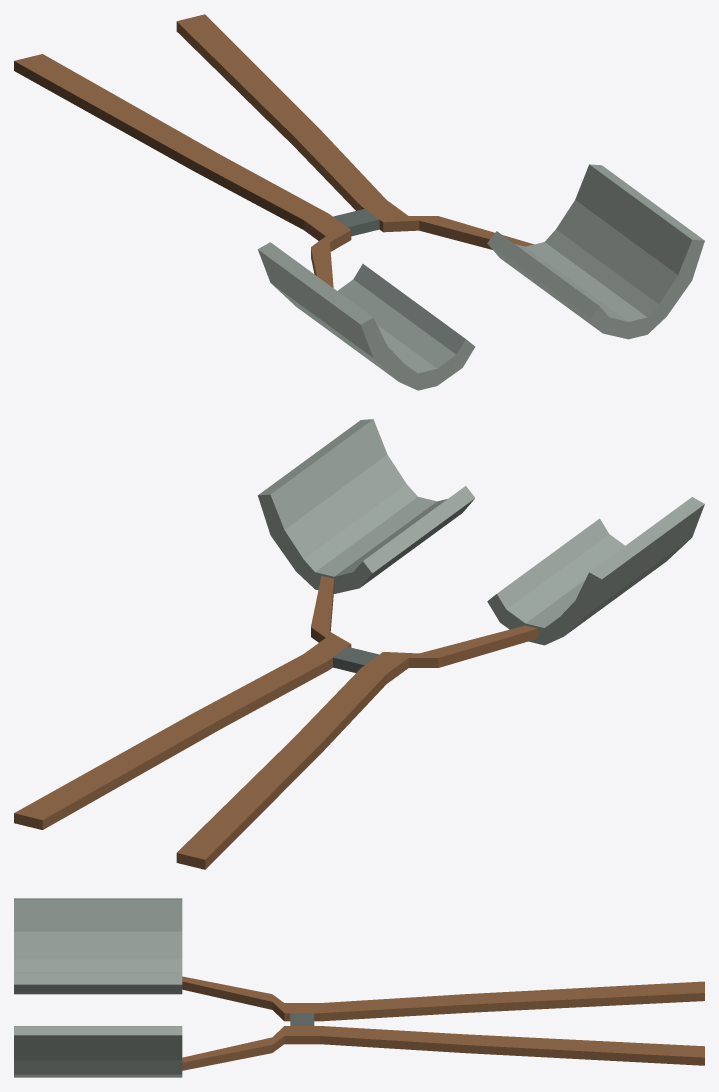
3 renders of one model, top to bottom at view 1: azimuth 30°, elevation 25°; view 2: azimuth 150°, elevation 25°; view 3: azimuth 270°, elevation 25°, orthographic. The views are drawn at different scales.
Visible parts, largest first — view 1: WholeRightConcaveWideShovelJaw, WholeLeftConcaveWideShovelJaw, WholeLeftBentNarrowHandle, WholeRightBentNarrowHandle, WholeFixedRectangularPivotBridge; view 2: WholeRightConcaveWideShovelJaw, WholeLeftConcaveWideShovelJaw, WholeLeftBentNarrowHandle, WholeRightBentNarrowHandle, WholeFixedRectangularPivotBridge; view 3: WholeLeftConcaveWideShovelJaw, WholeRightBentNarrowHandle, WholeLeftBentNarrowHandle, WholeRightConcaveWideShovelJaw, WholeFixedRectangularPivotBridge.
Part boxes in pixels (x1,y1,x2,y2): WholeRightConcaveWideShovelJaw: (487,164,704,339); WholeLeftConcaveWideShovelJaw: (258,242,475,390); WholeLeftBentNarrowHandle: (14,54,351,287); WholeRightBentNarrowHandle: (176,14,533,249); WholeFixedRectangularPivotBridge: (333,209,379,236); WholeRightConcaveWideShovelJaw: (257,419,474,593); WholeLeftConcaveWideShovelJaw: (487,497,704,645); WholeLeftBentNarrowHandle: (176,625,538,869); WholeRightBentNarrowHandle: (14,575,351,829); WholeFixedRectangularPivotBridge: (333,647,378,672); WholeLeftConcaveWideShovelJaw: (14,898,182,994); WholeRightBentNarrowHandle: (182,1026,704,1070); WholeLeftBentNarrowHandle: (182,976,704,1021); WholeRightConcaveWideShovelJaw: (14,1026,182,1077); WholeFixedRectangularPivotBridge: (290,1013,314,1025).
Bounding box in the file's own units: 0.54 × 0.126 × 1.15.
